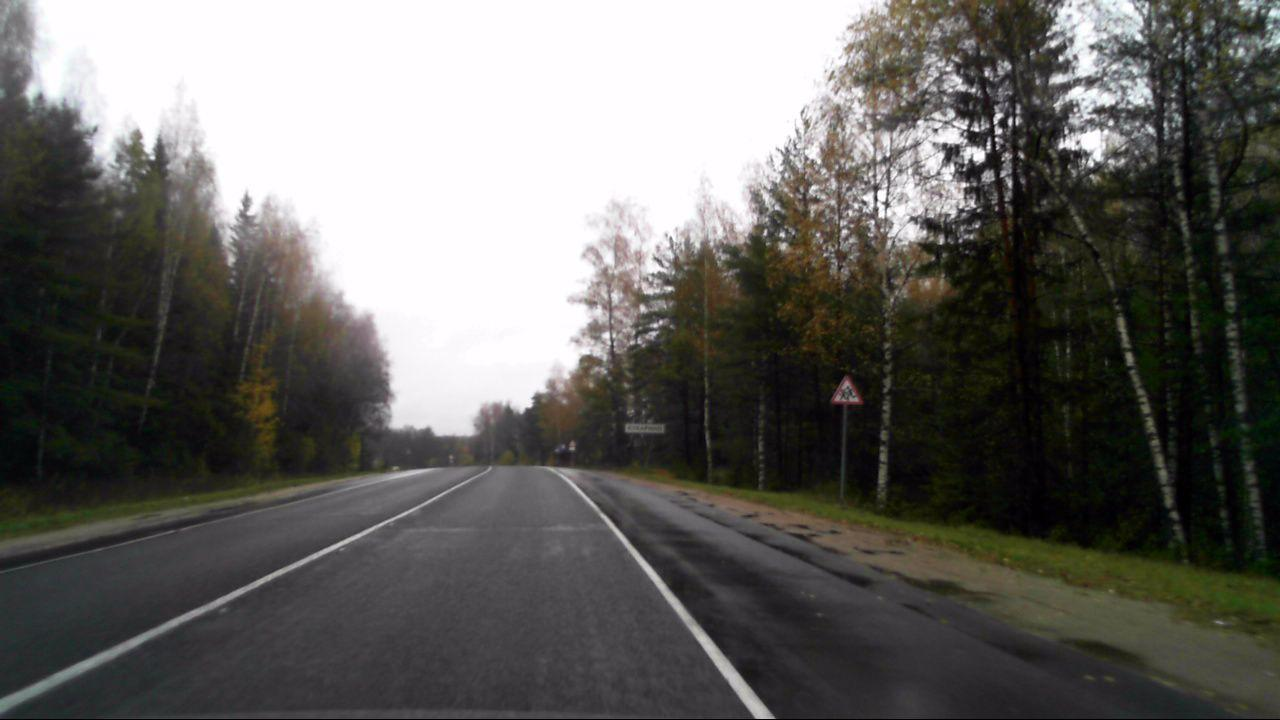road_sign: (828, 370, 867, 406)
